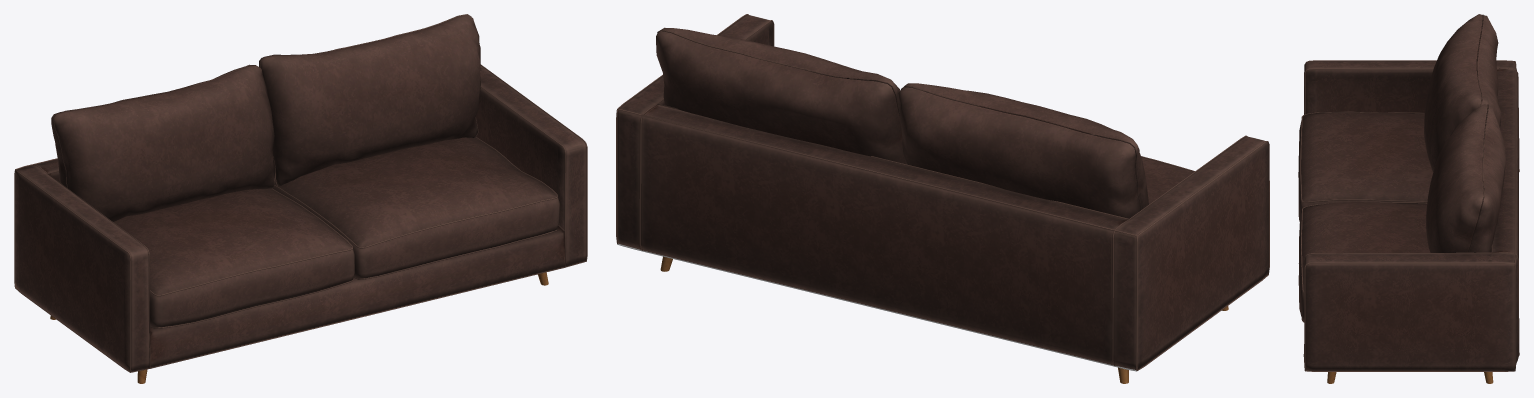
File: LeatherSofa.gltf
The picture shows the model from 3 angles, left to right: view 1: azimuth 30°, elevation 25°; view 2: azimuth 150°, elevation 25°; view 3: azimuth 270°, elevation 25°; orthographic projection. The views are drawn at different scales.
Visible parts, largest first — view 1: LeatherSofa; view 2: LeatherSofa; view 3: LeatherSofa.
Part boxes in pixels (bbox=[...]): LeatherSofa: bbox=[14, 14, 587, 383]; LeatherSofa: bbox=[616, 14, 1269, 383]; LeatherSofa: bbox=[1298, 14, 1519, 383].
Bounding box in the file's own units: 1.97 × 0.8685 × 0.9038.
1 material, 1 textured.
